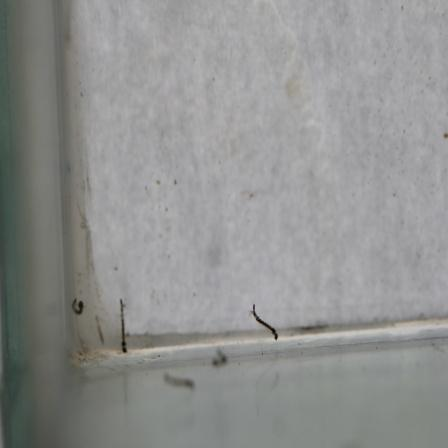Jentik-Nyamuk: (247, 302, 280, 344), (115, 297, 132, 357), (67, 295, 87, 318)
